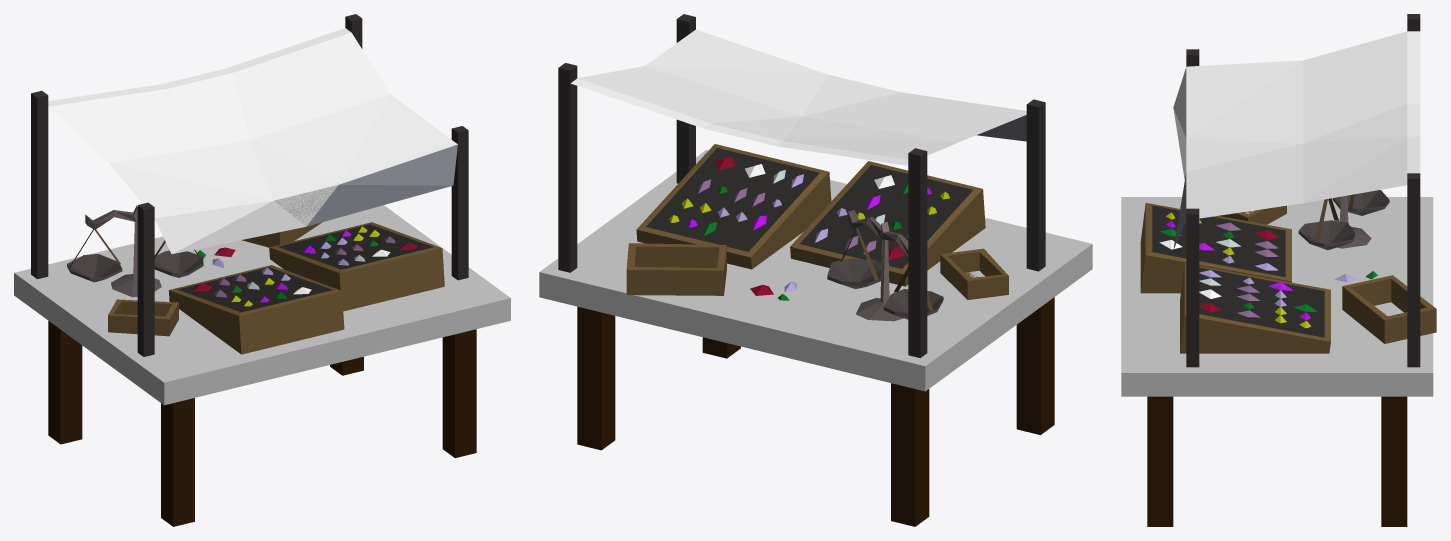
File: gem_stall_8.obj
The picture shows the model from 3 angles, left to right: view 1: azimuth 30°, elevation 25°; view 2: azimuth 150°, elevation 25°; view 3: azimuth 270°, elevation 25°; orthographic projection. The views are drawn at different scales.
Visible parts, largest first — view 1: 1524; view 2: 1524; view 3: 1524.
Boxes of the visible parts, x1,y1,x2,y2 form: 1524: (14,14,510,526); 1524: (539,14,1092,526); 1524: (1121,14,1436,526).
Size of the model in its own units: 256 by 240 by 194.
